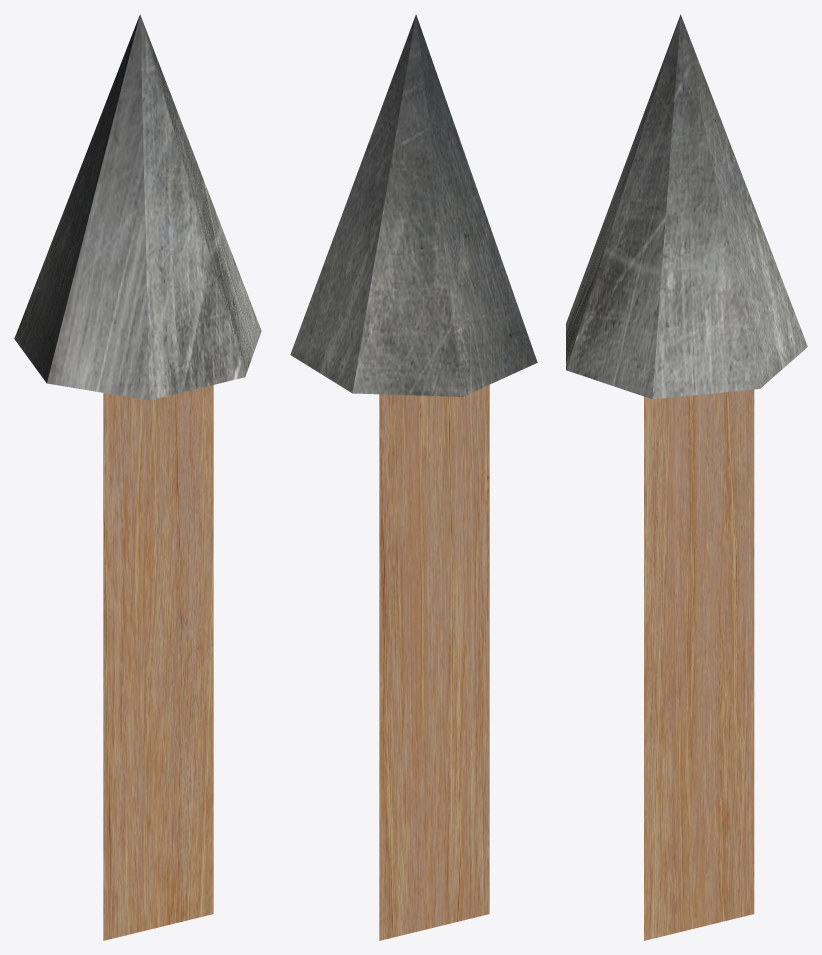
The model's file is dart.obj.
3 views of the same model, side by side, from view 1: azimuth 30°, elevation 25°; view 2: azimuth 150°, elevation 25°; view 3: azimuth 270°, elevation 25° (orthographic).
Parts seen in each view (by area): view 1: Cylinder, Sphere; view 2: Cylinder, Sphere; view 3: Cylinder, Sphere.
Part boxes in pixels (bbox=[...]): Cylinder: bbox=[103, 385, 213, 940]; Sphere: bbox=[14, 14, 261, 400]; Cylinder: bbox=[379, 385, 489, 940]; Sphere: bbox=[290, 14, 537, 396]; Cylinder: bbox=[644, 389, 754, 940]; Sphere: bbox=[566, 14, 807, 399].
Size of the model in its own units: 1.68 by 6.74 by 1.64.
